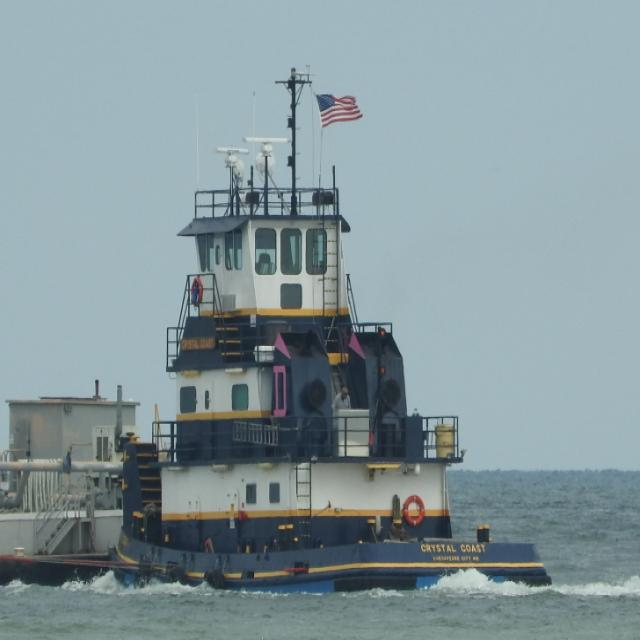tugboat: (108, 59, 558, 610)
